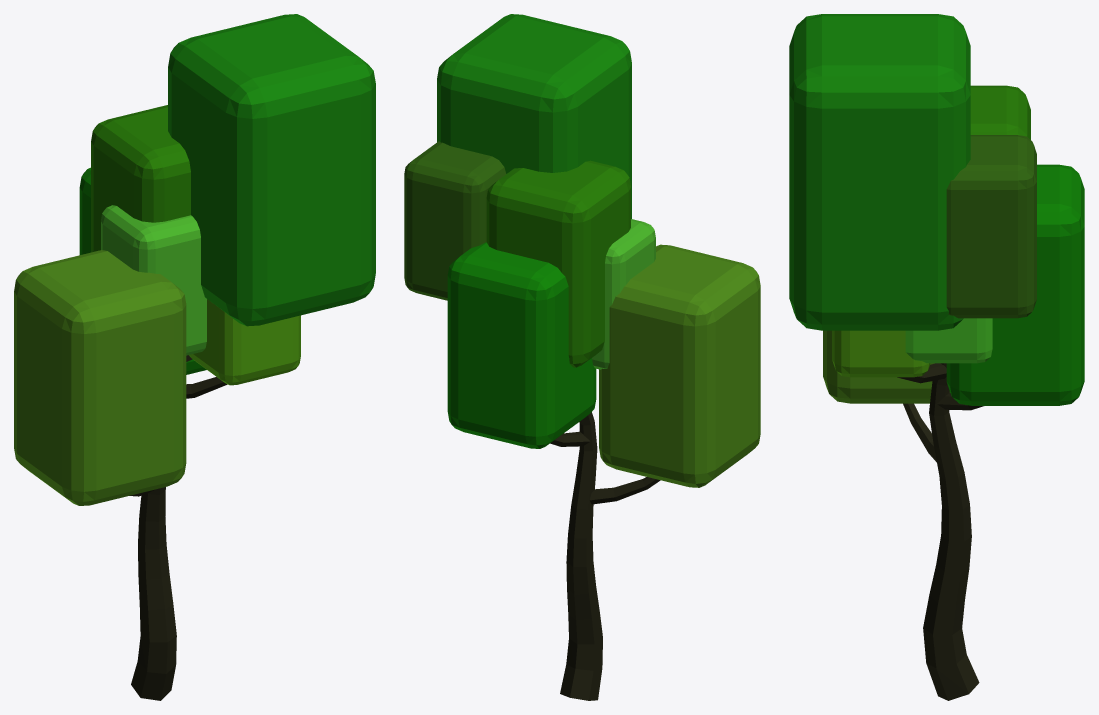
Rendered from Tree2_V2.fbx.
3 renders of one model, left to right at view 1: azimuth 30°, elevation 25°; view 2: azimuth 150°, elevation 25°; view 3: azimuth 270°, elevation 25°, orthographic. The views are drawn at different scales.
Parts seen in each view (by area): view 1: OUT_TREE; view 2: OUT_TREE; view 3: OUT_TREE.
Boxes of the visible parts, left/top/right/bottom form: OUT_TREE: left=14, top=14, right=375, bottom=700; OUT_TREE: left=404, top=14, right=760, bottom=700; OUT_TREE: left=789, top=14, right=1084, bottom=700.
Bounding box in the file's own units: 0.8336 × 1.75 × 0.6693.
